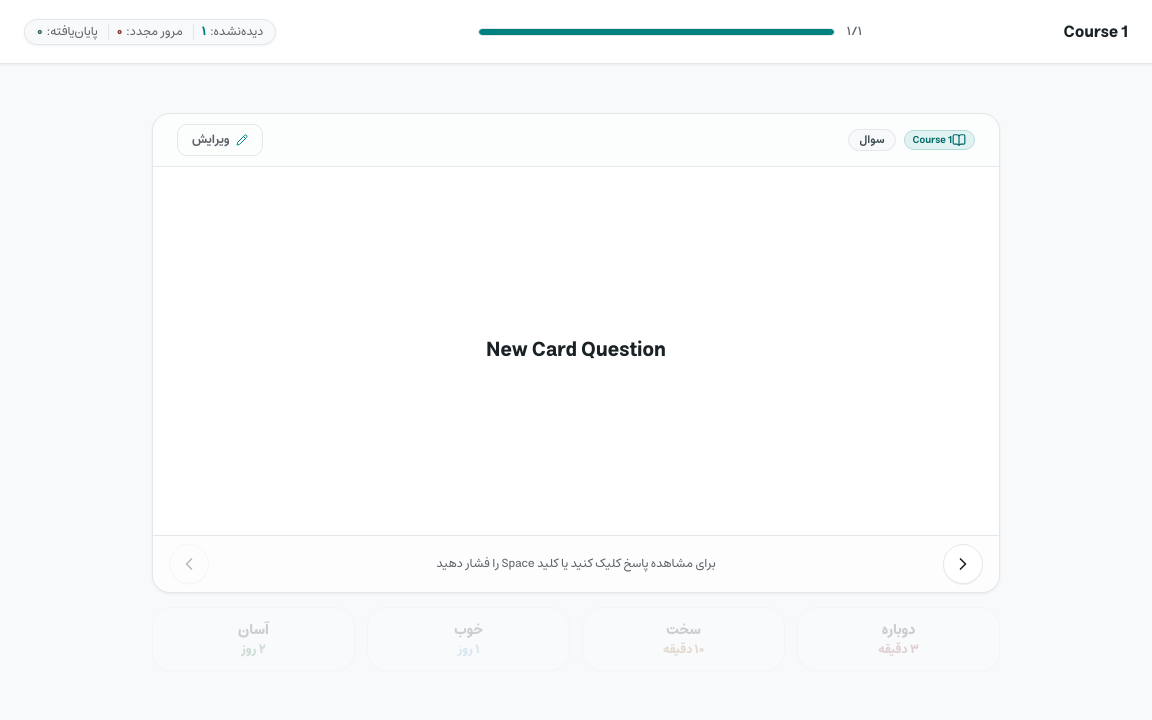
Scenario: Flashcard Experience Flow › displays correct interval hints for New Cards (interval_days: 0) where Hard and Good are both 1 day
Note: Flip card
Click the text "New Card Question" at x=576, y=350, box [486, 333, 666, 368]
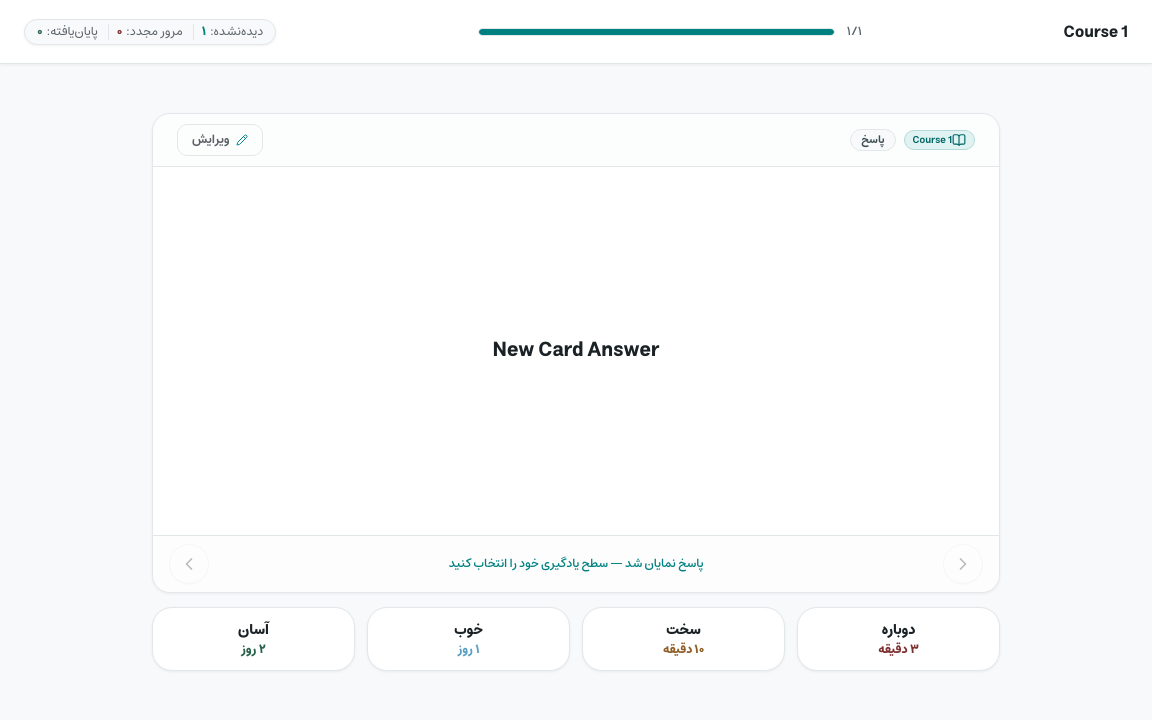
Expected: the text "۳ دقیقه" is shown, [878, 642, 919, 658]
Expected: the text "New Card Answer" is shown, [492, 333, 660, 368]
